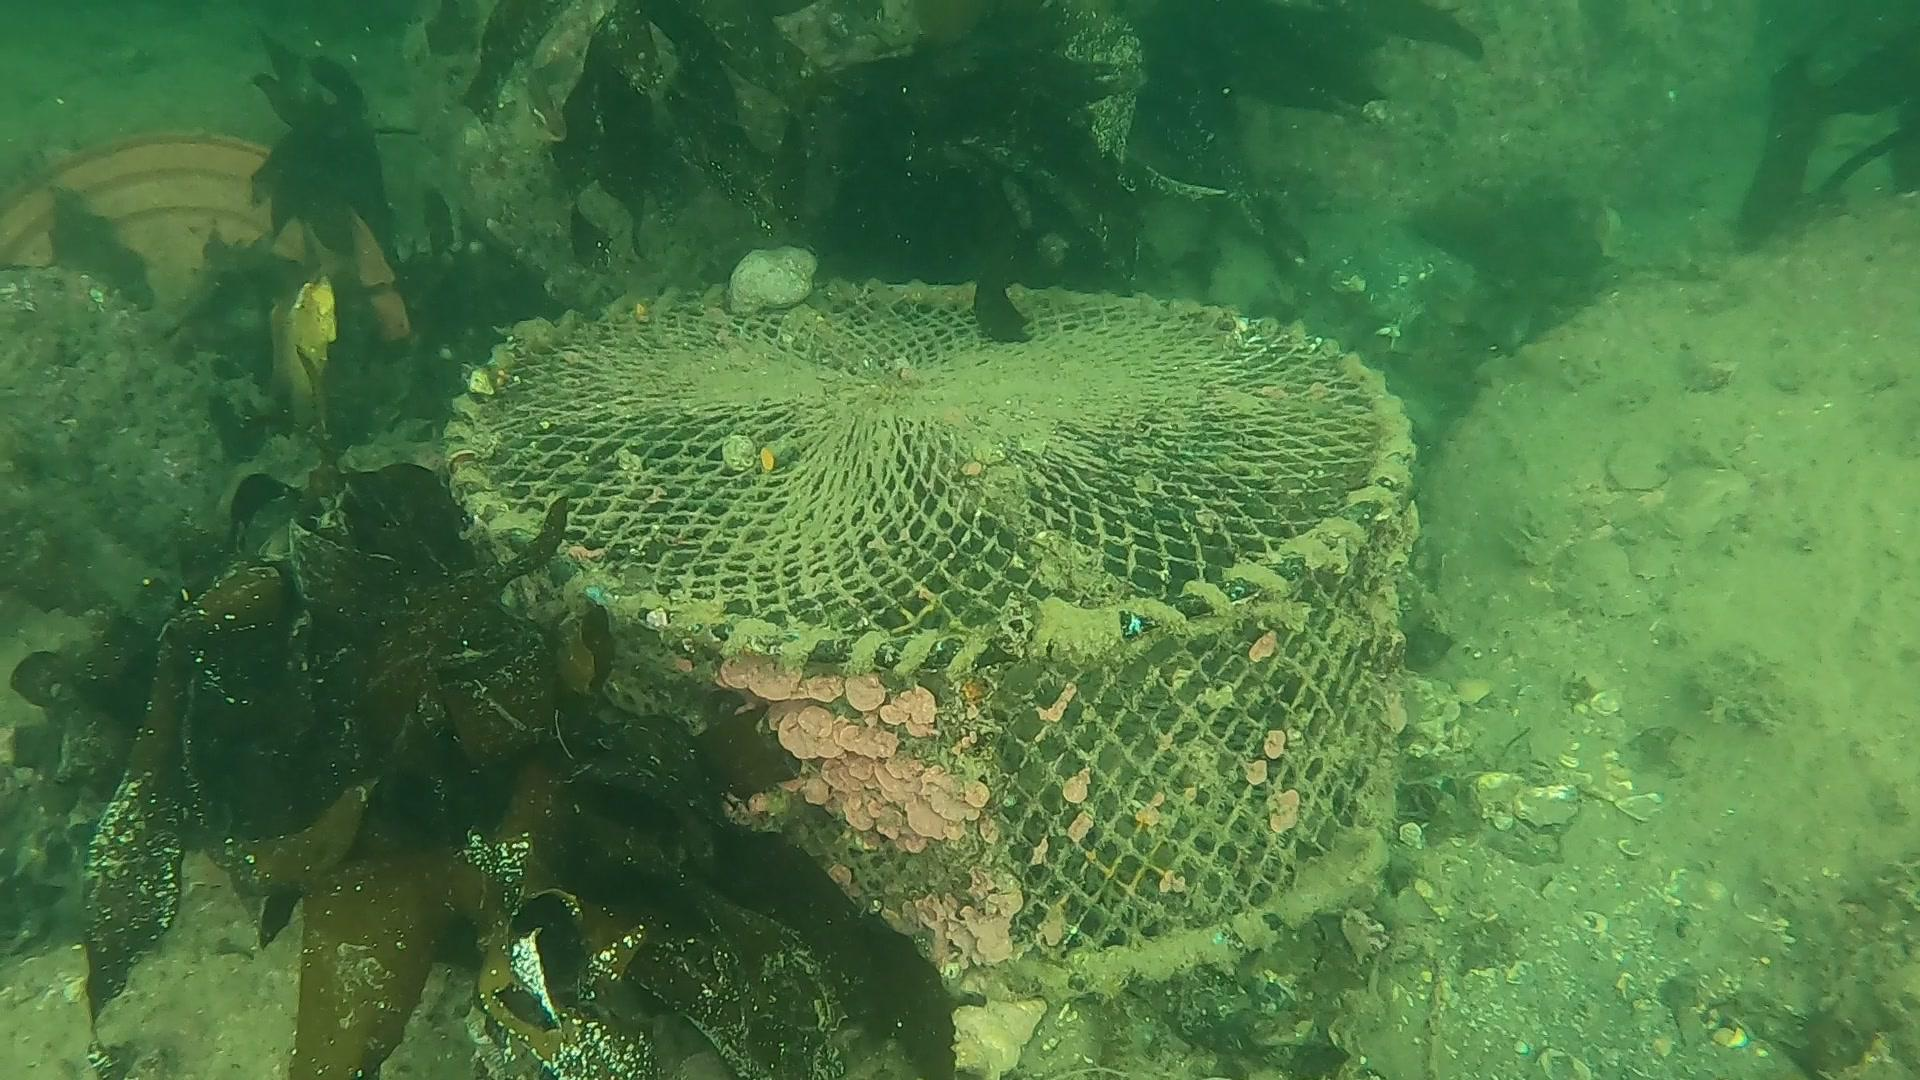circular fish trap: (447, 269, 1420, 1007)
